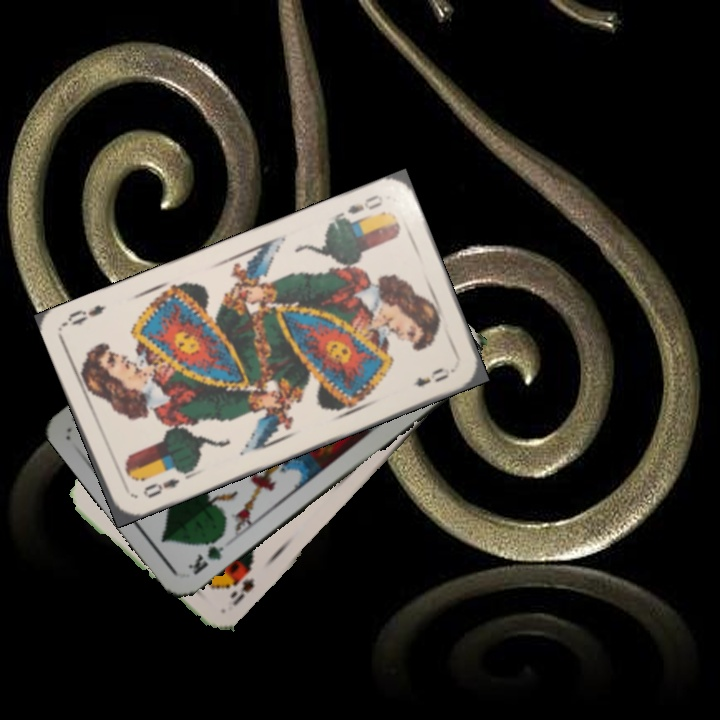EO: (332, 190, 386, 226), (139, 474, 182, 501)
GK: (184, 529, 227, 578)
SO: (226, 573, 257, 609)
